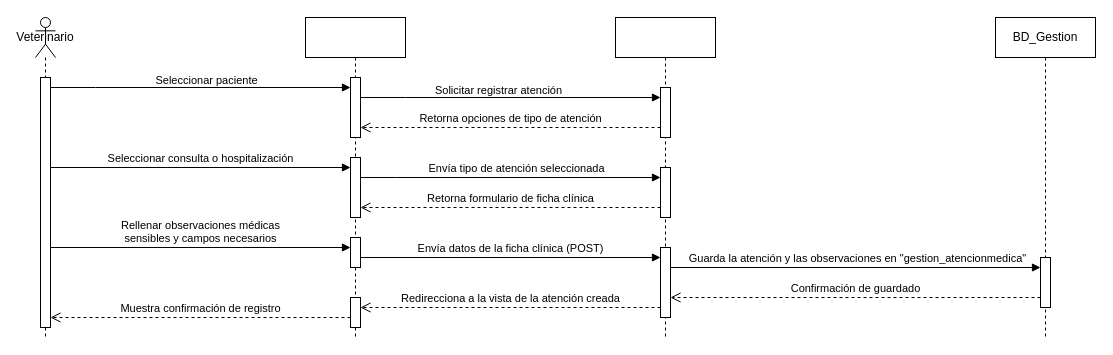
The diagram is 1113 pixels wide and 355 high, and some of its shapes have lost their labels. The centre of each missing label's shape, as x and y in pixels:
"C_Atencion" goes at pixel 665 177.
"V_Paciente" goes at pixel 355 177.
